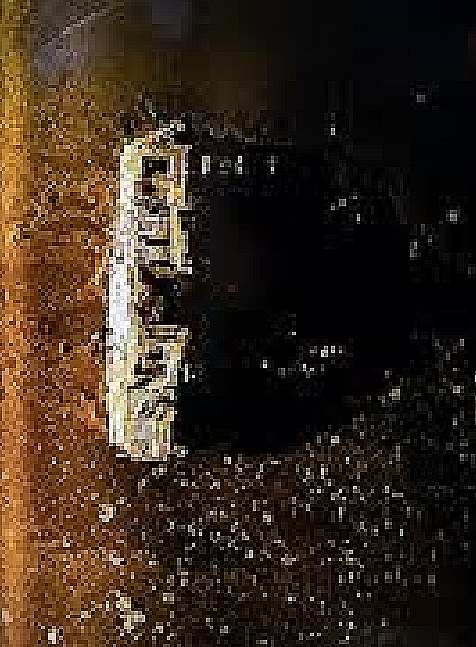ship: (101, 114, 198, 464)
